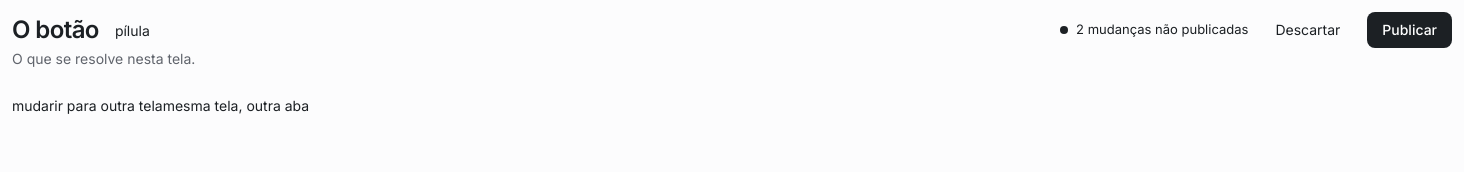
Test: SettingsHeader › descartar desfaz e volta a "Tudo publicado"
Click the button "Descartar".
click(1308, 30)  # box [1260,12,1355,48]
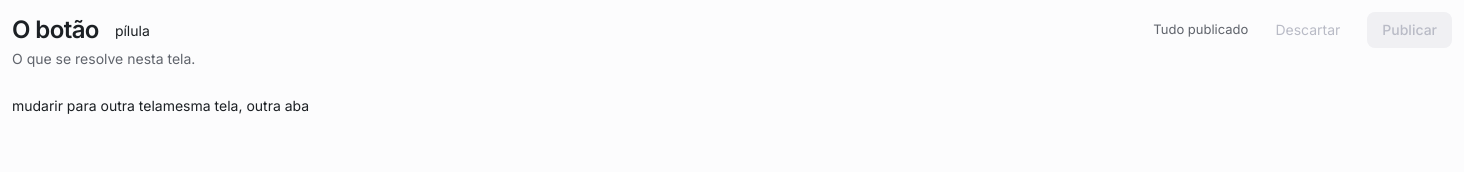
Now the text "Tudo publicado" is shown, box [1153,20,1248,40]
Now the button "Publicar" is disabled, box [1367,12,1452,48]
